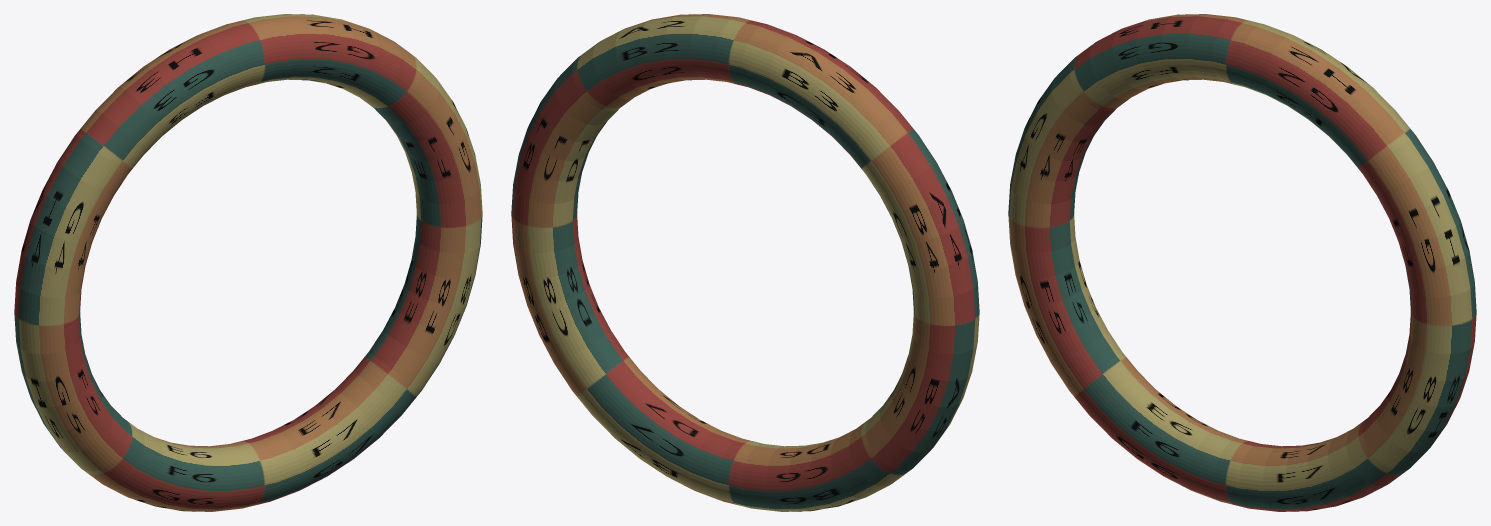
The model's file is texture_torus_R9_r1.glb.
3 views of the same model, side by side, from view 1: azimuth 30°, elevation 25°; view 2: azimuth 150°, elevation 25°; view 3: azimuth 330°, elevation 25° (orthographic).
Visible parts, largest first — view 1: world; view 2: world; view 3: world.
Part boxes in pixels (x1,y1,x2,y2): world: [14, 14, 482, 511]; world: [511, 14, 979, 511]; world: [1008, 14, 1476, 511].
Bounding box in the file's own units: 18.27 × 18.23 × 2.26.
Materials: 1 (1 with a texture image).
